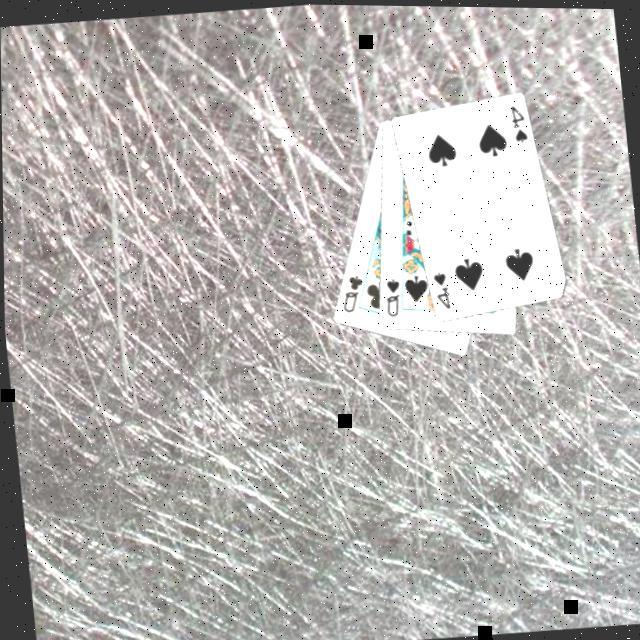4S: (504, 101, 530, 147), (427, 268, 452, 314)
QC: (334, 272, 366, 318)
QS: (377, 275, 403, 321)
